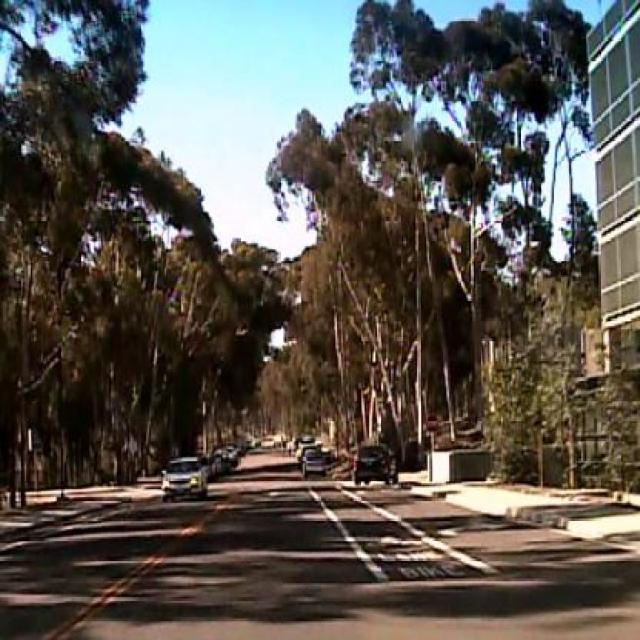stop: (425, 412, 439, 434)
